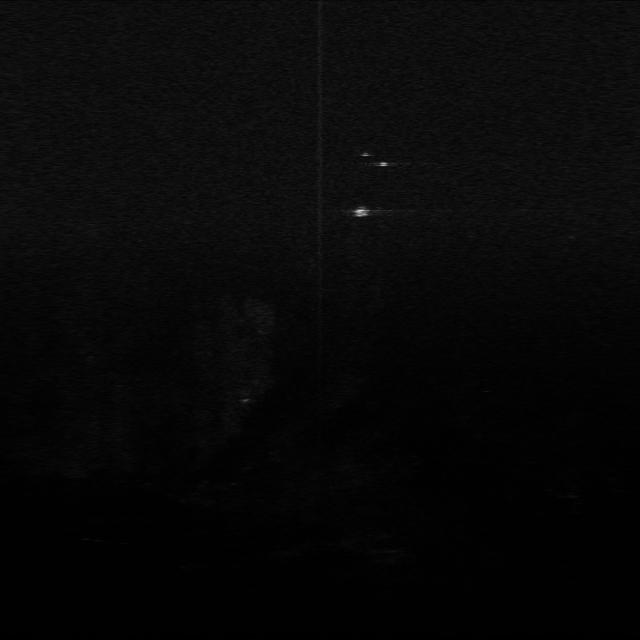rov: (350, 204, 374, 222)
